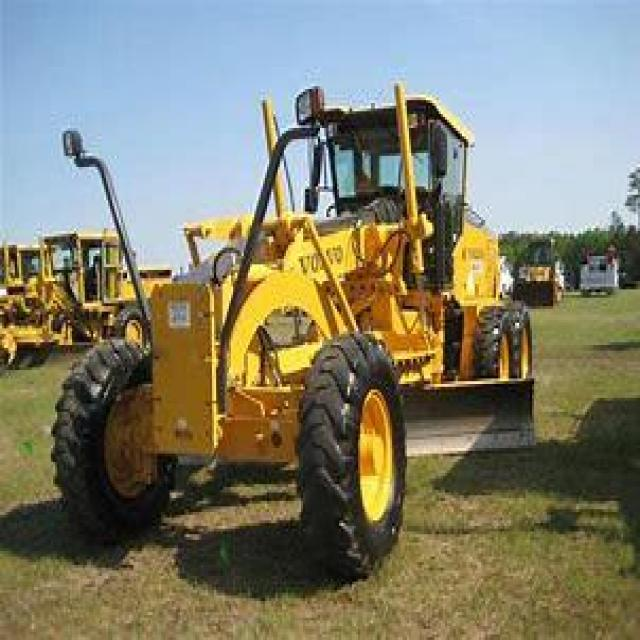Grader: (53, 97, 619, 579)
